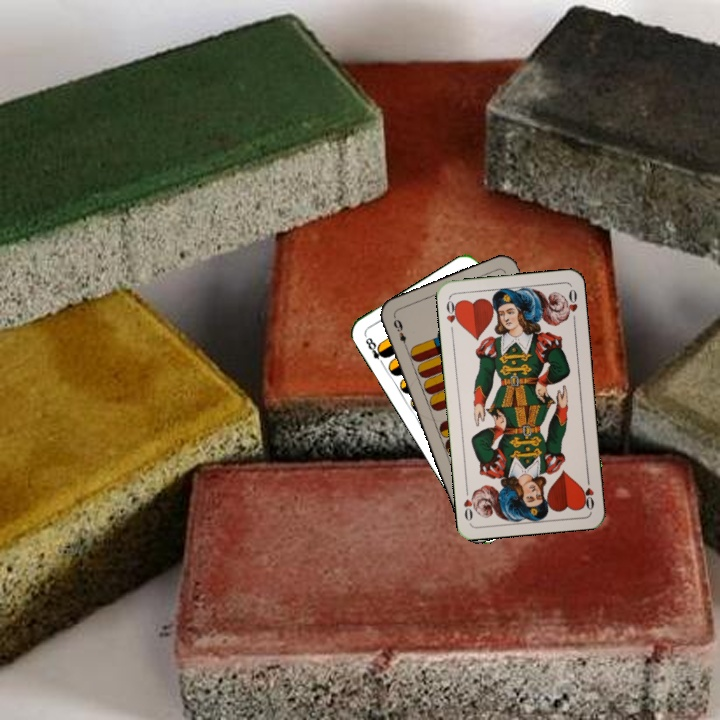E8: (361, 331, 389, 368)
E9: (389, 313, 411, 352)
HO: (442, 295, 462, 336), (578, 472, 597, 512)
